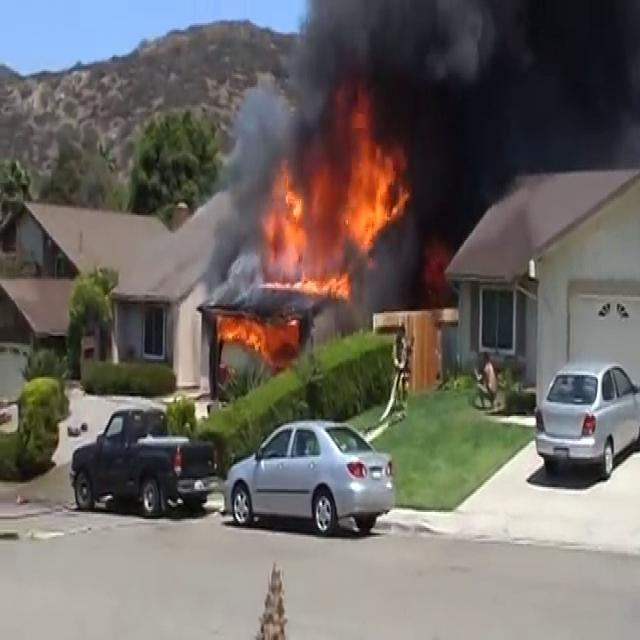Fire: (262, 104, 402, 304), (214, 309, 277, 356)
Smoke: (204, 0, 640, 276)
